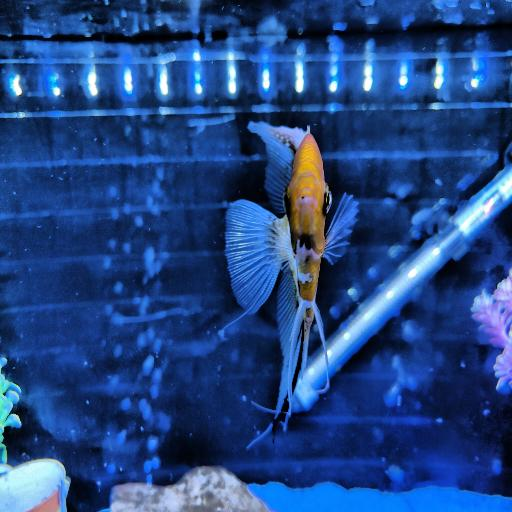Fish: (225, 122, 357, 448)
